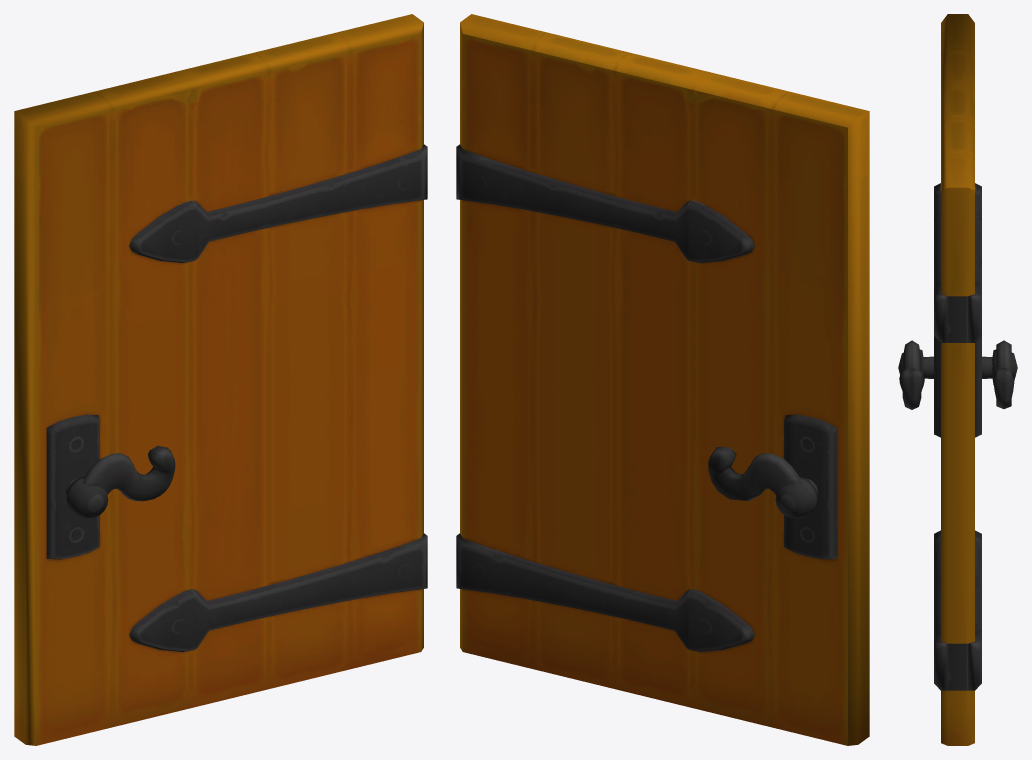
File: door_ironparts_as.glb
The picture shows the model from 3 angles, left to right: view 1: azimuth 30°, elevation 25°; view 2: azimuth 150°, elevation 25°; view 3: azimuth 270°, elevation 25°; orthographic projection. The views are drawn at different scales.
Visible parts, largest first — view 1: BodyR13__mDoorS; view 2: BodyR13__mDoorS; view 3: BodyR13__mDoorS.
Boxes of the visible parts, x1,y1,x2,y2 form: BodyR13__mDoorS: (14, 14, 427, 745); BodyR13__mDoorS: (456, 14, 869, 745); BodyR13__mDoorS: (898, 14, 1017, 745).
Size of the model in its own units: 12 by 18 by 3.5.
Materials: 1 (1 with a texture image).
